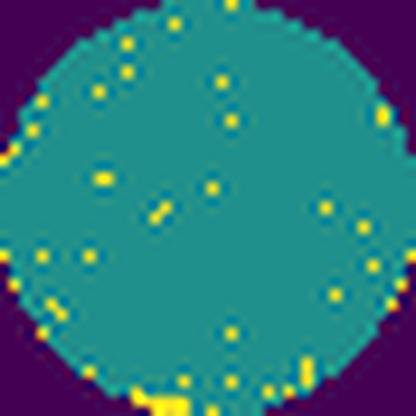Edge-Loc: (123, 382, 195, 416)
